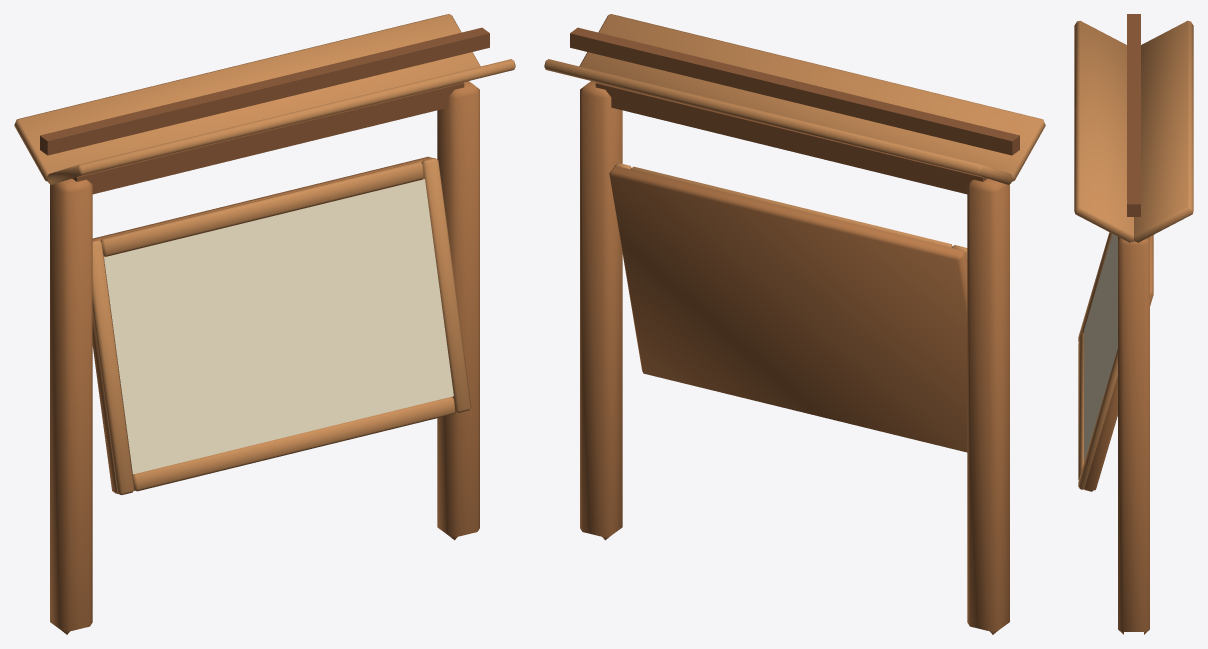
The model's file is map_board.glb.
The picture shows the model from 3 angles, left to right: view 1: azimuth 30°, elevation 25°; view 2: azimuth 150°, elevation 25°; view 3: azimuth 270°, elevation 25°; orthographic projection. The views are drawn at different scales.
Visible parts, largest first — view 1: map_board; view 2: map_board; view 3: map_board.
Boxes of the visible parts, x1=… form: map_board: x1=14, y1=14, x2=515, y2=634; map_board: x1=544, y1=14, x2=1045, y2=634; map_board: x1=1074, y1=14, x2=1193, y2=634.
Size of the model in its own units: 2.26 by 2.43 by 0.5974.
Materials: 1 (1 with a texture image).
